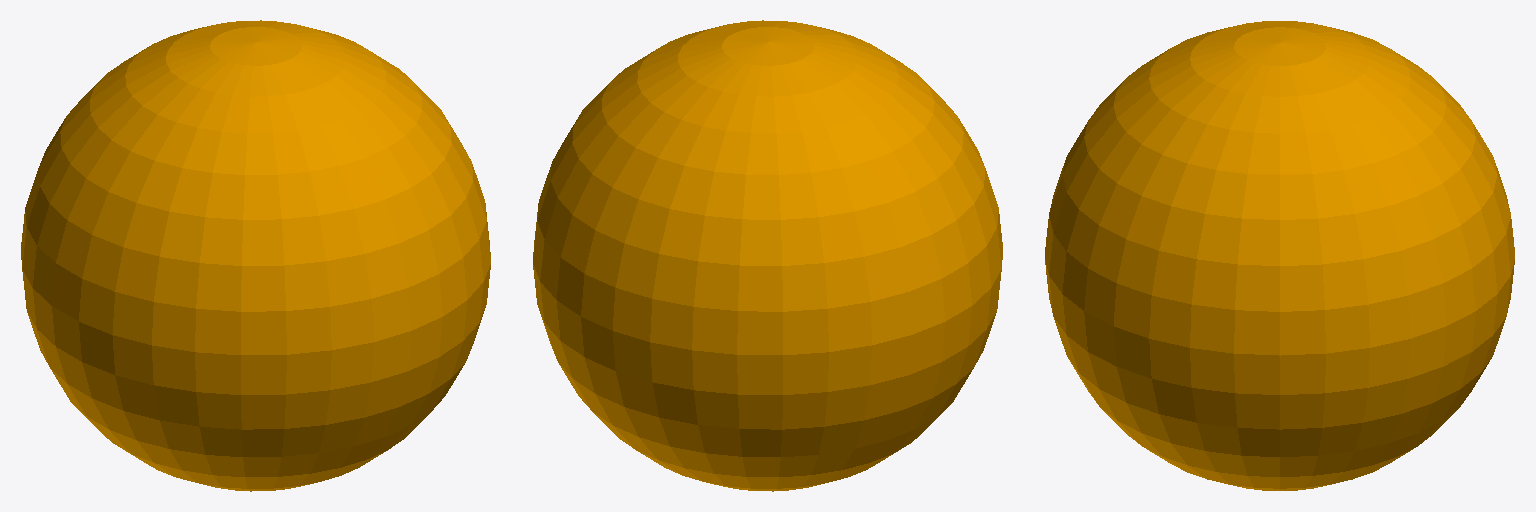
URDF robot description (f1_RedBull):
<?xml version="1.0" ?>
<robot name="f1_RedBull">
  <link name="f1">
    <origin rpy="0 0 0" xyz="0 0 0"/>
    <inertial>
      <mass value="10"/>
      <inertia ixx="1" ixy="0.0" ixz="0.0" iyy="1" iyz="0.0" izz="1.0"/>
    </inertial>
    <visual>
      <geometry>
        <mesh filename="package://f1/models/f1_redBull/Redbull/Car.obj" scale="0.2 0.2 0.2"/>
      </geometry>
    </visual>
    <visual>
      <origin rpy="0.000000 -0.000000 0.0000000" xyz="0.45000 0.040000 0.1000000"/>
      <geometry>
        <sphere radius=".005"/>
      </geometry>
    </visual>
  </link>
</robot>

--- What the picture shows (computed from the rendered views, not written in the file) ---
3 views of the same robot in one strip: view 1: azimuth 30°, elevation 25°; view 2: azimuth 150°, elevation 25°; view 3: azimuth 270°, elevation 25° (orthographic).
Robot: f1_RedBull — 1 links, 0 joints (none); root link f1; default pose: all joints at 0.
Links seen in each view (by area): view 1: f1; view 2: f1; view 3: f1.
Boxes of the visible links, x1,y1,x2,y2 form: f1: (21, 20, 490, 491); f1: (533, 20, 1002, 491); f1: (1045, 21, 1514, 490).
Size in the robot's own frame: 0.01 by 0.01 by 0.01 metres.
0 mesh visuals loaded from 1 distinct referenced files (none loaded); not drawn: 1 (reference not matched to a file when rendering).
